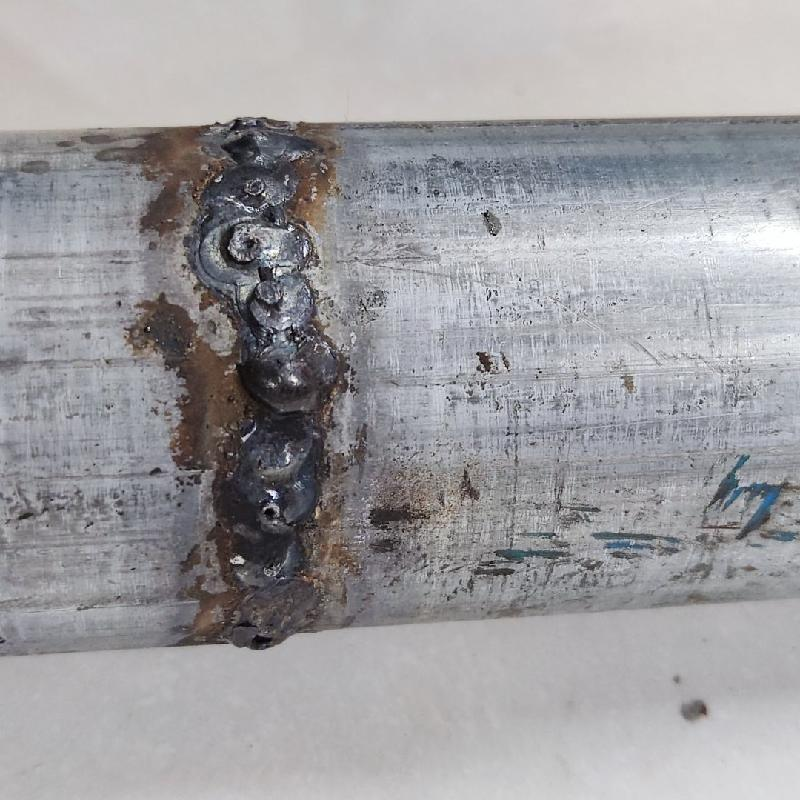Weld: (236, 336, 328, 416)
wrong_size: (193, 109, 334, 334), (216, 395, 323, 640)
